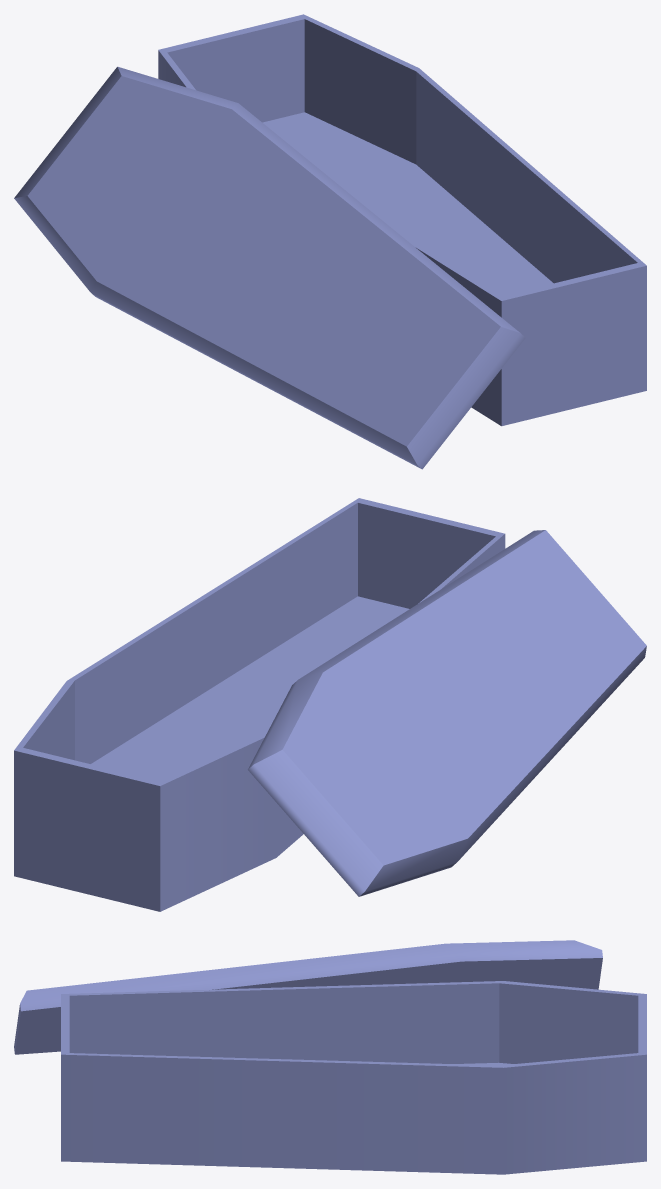
Rendered from Coffin_02_Lod0.fbx.
3 views of the same model, one above another, from view 1: azimuth 30°, elevation 25°; view 2: azimuth 150°, elevation 25°; view 3: azimuth 270°, elevation 25° (orthographic). The views are drawn at different scales.
Parts seen in each view (by area): view 1: Coffin_02_Lod0; view 2: Coffin_02_Lod0; view 3: Coffin_02_Lod0.
Part boxes in pixels (box(x1,y1,x2,y2)): Coffin_02_Lod0: box(14, 14, 646, 469); Coffin_02_Lod0: box(14, 498, 646, 911); Coffin_02_Lod0: box(14, 940, 646, 1174).
Bounding box in the file's own units: 104 × 44.77 × 185.
